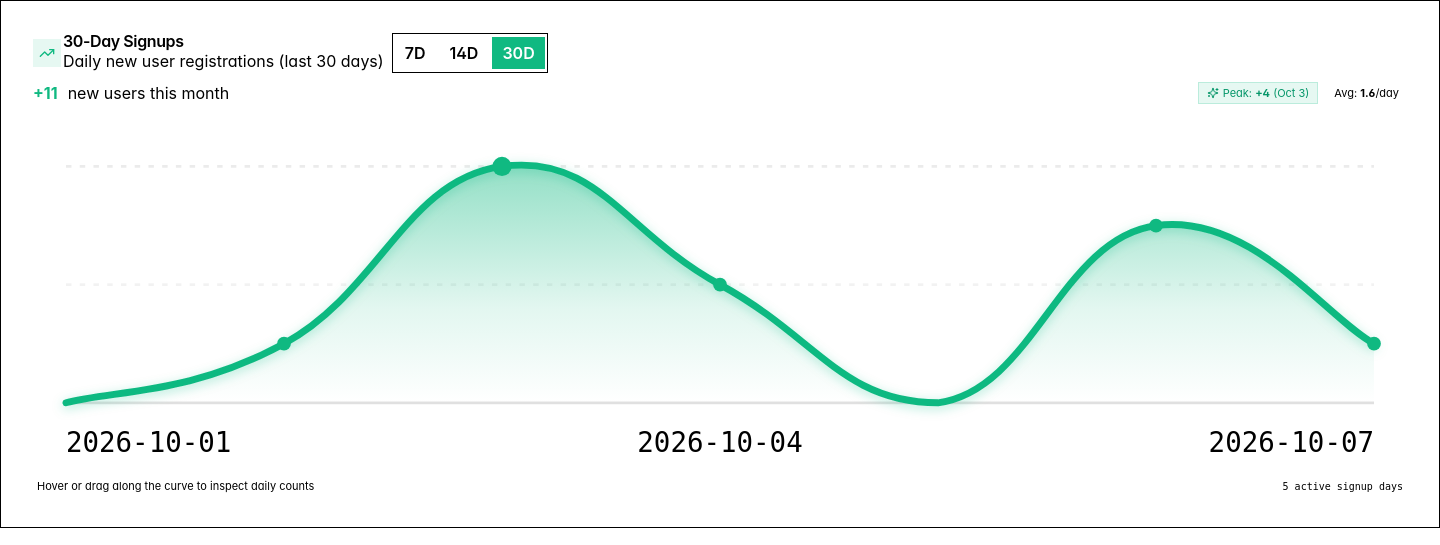
Test: InteractiveSignupChart › allows switching timeframes (7D, 14D, 30D)
This screenshot has width=1440, height=545.
Click the button "7D": (415, 53) [395, 37, 436, 69]
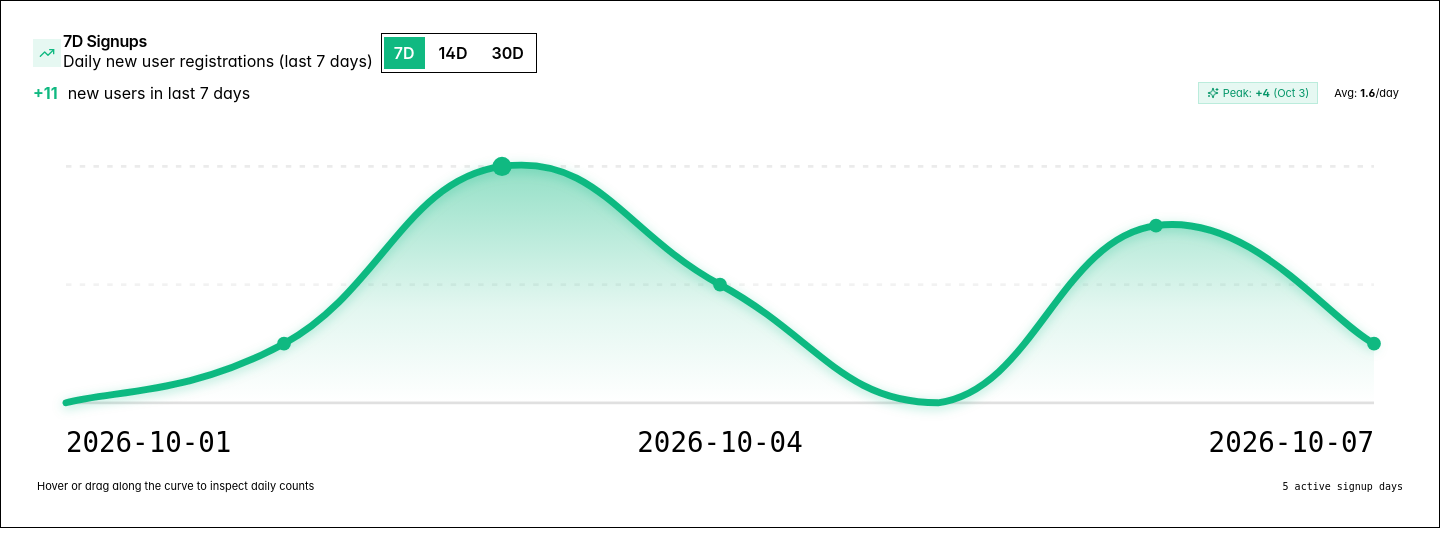
Expected: the heading "7D Signups" is shown, [63, 31, 147, 51]
Expected: the text "new users in last 7 days" is shown, [68, 81, 250, 105]
